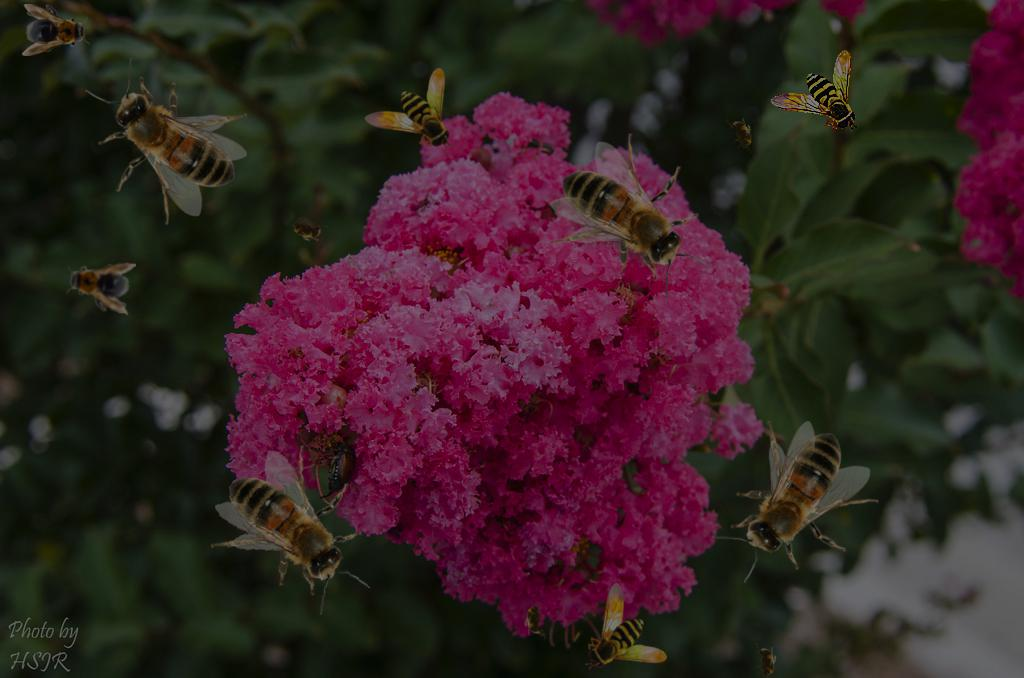Bee: (205, 436, 384, 620), (85, 58, 247, 225), (712, 421, 879, 583), (550, 133, 712, 300), (585, 582, 667, 670), (364, 68, 452, 150), (770, 50, 858, 132), (62, 255, 136, 315), (22, 4, 90, 56), (283, 211, 329, 247), (725, 112, 759, 158), (524, 599, 546, 639), (755, 643, 777, 678)
